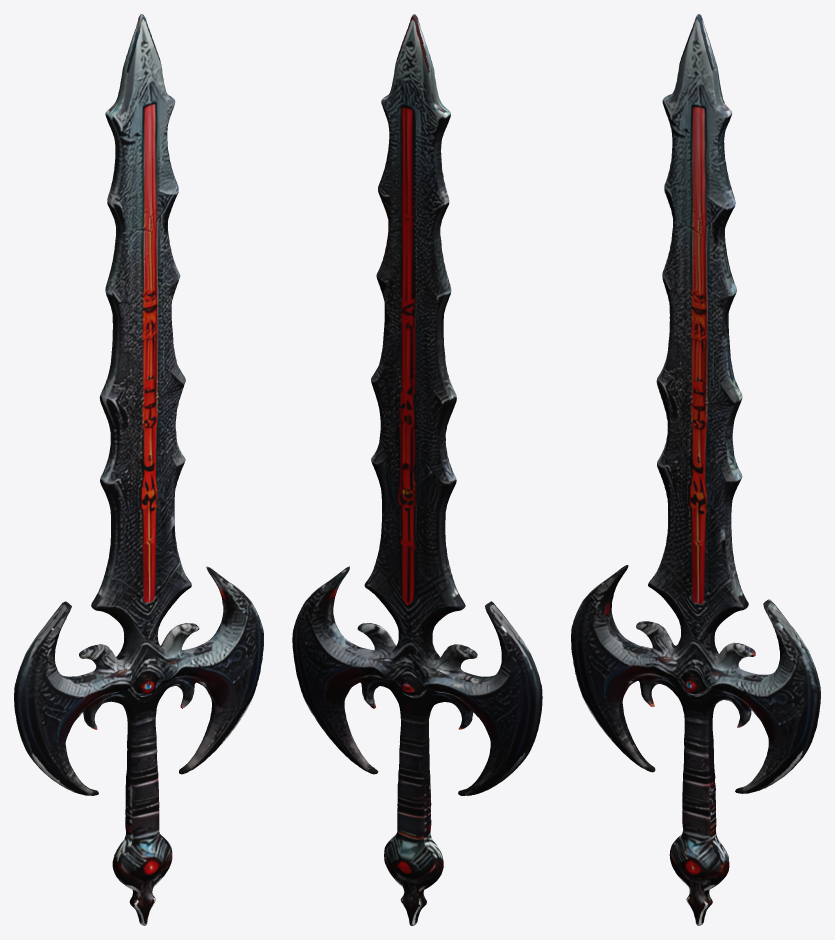
File: Tripo.glb
3 views of the same model, side by side, from view 1: azimuth 30°, elevation 25°; view 2: azimuth 150°, elevation 25°; view 3: azimuth 330°, elevation 25° (orthographic).
Parts seen in each view (by area): view 1: geometry_0; view 2: geometry_0; view 3: geometry_0.
Part boxes in pixels (x1,y1,x2,y2): geometry_0: (14,14,263,925); geometry_0: (292,14,542,925); geometry_0: (571,14,820,925).
Size of the model in its own units: 0.5304 by 1.87 by 0.0728.
Materials: 1 (1 with a texture image).
